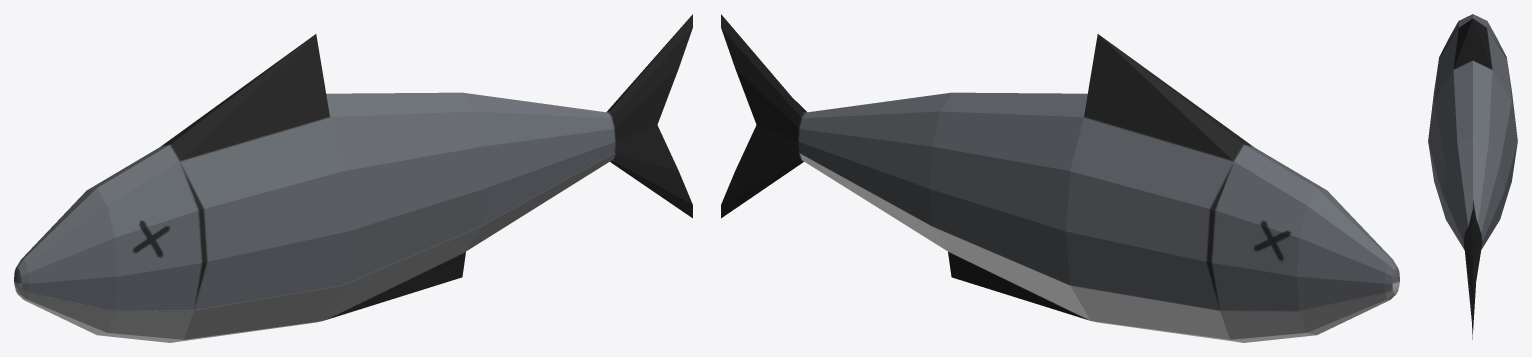
The model's file is fish.fbx.
3 views of the same model, side by side, from view 1: azimuth 30°, elevation 25°; view 2: azimuth 150°, elevation 25°; view 3: azimuth 270°, elevation 25° (orthographic). The views are drawn at different scales.
Parts seen in each view (by area): view 1: fish; view 2: fish; view 3: fish.
Part boxes in pixels (x1,y1,x2,y2): fish: (14,14,692,342); fish: (721,14,1399,342); fish: (1428,14,1517,339).
Bounding box in the file's own units: 101 × 41.21 × 16.47.
1 material, 1 textured.
